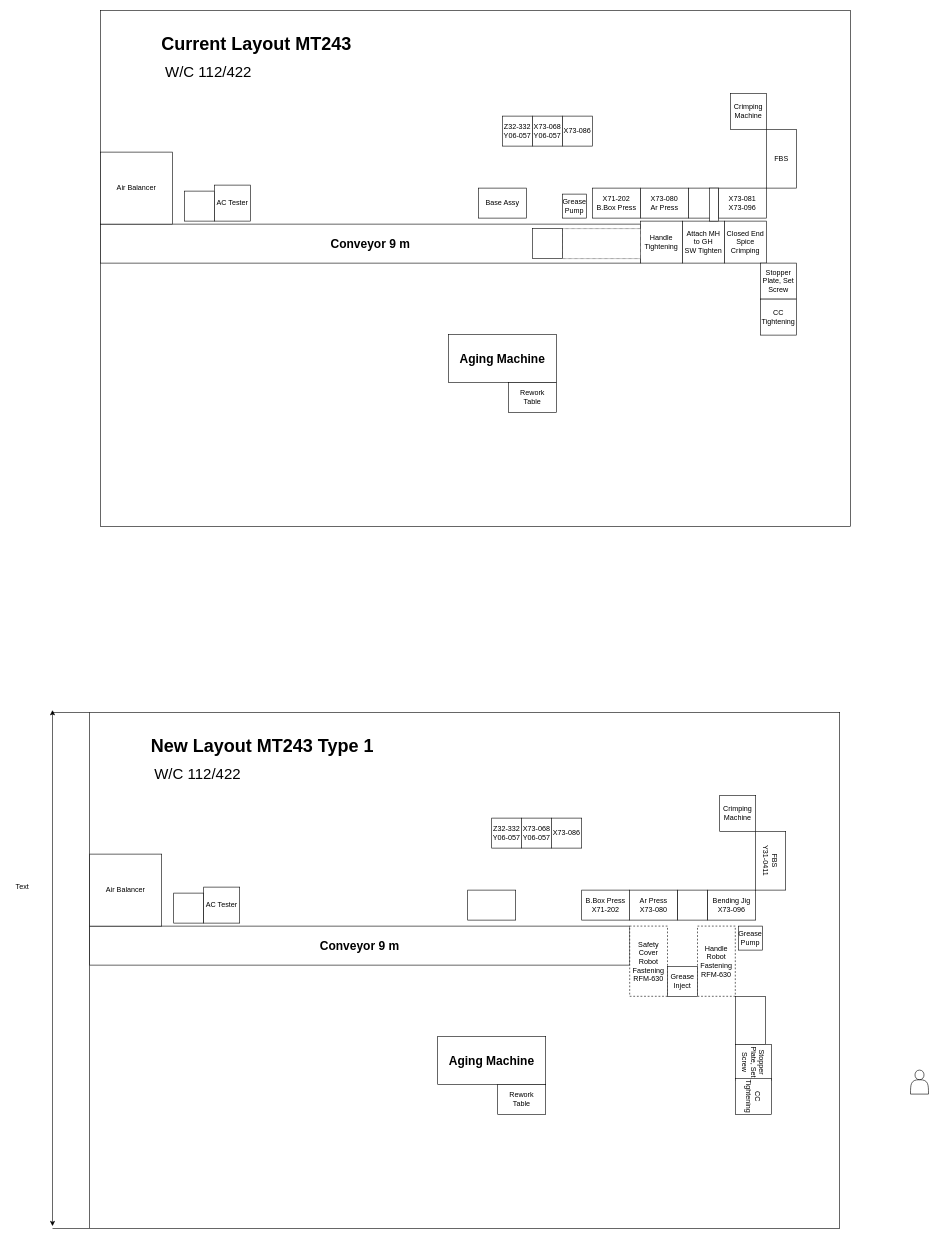
Some shapes in this 939 by 1242 pixel diagram are drawn without their labels. The shapes that lost their labels are listed below. From the top down, each one's centre as x and y in pixels, then its label:
point (547, 243): Grease inject Safety Tightening
point (601, 243): Slide Jig, MH Tightening (PH Screw)
point (750, 1020): MH Tightening PH Screw
